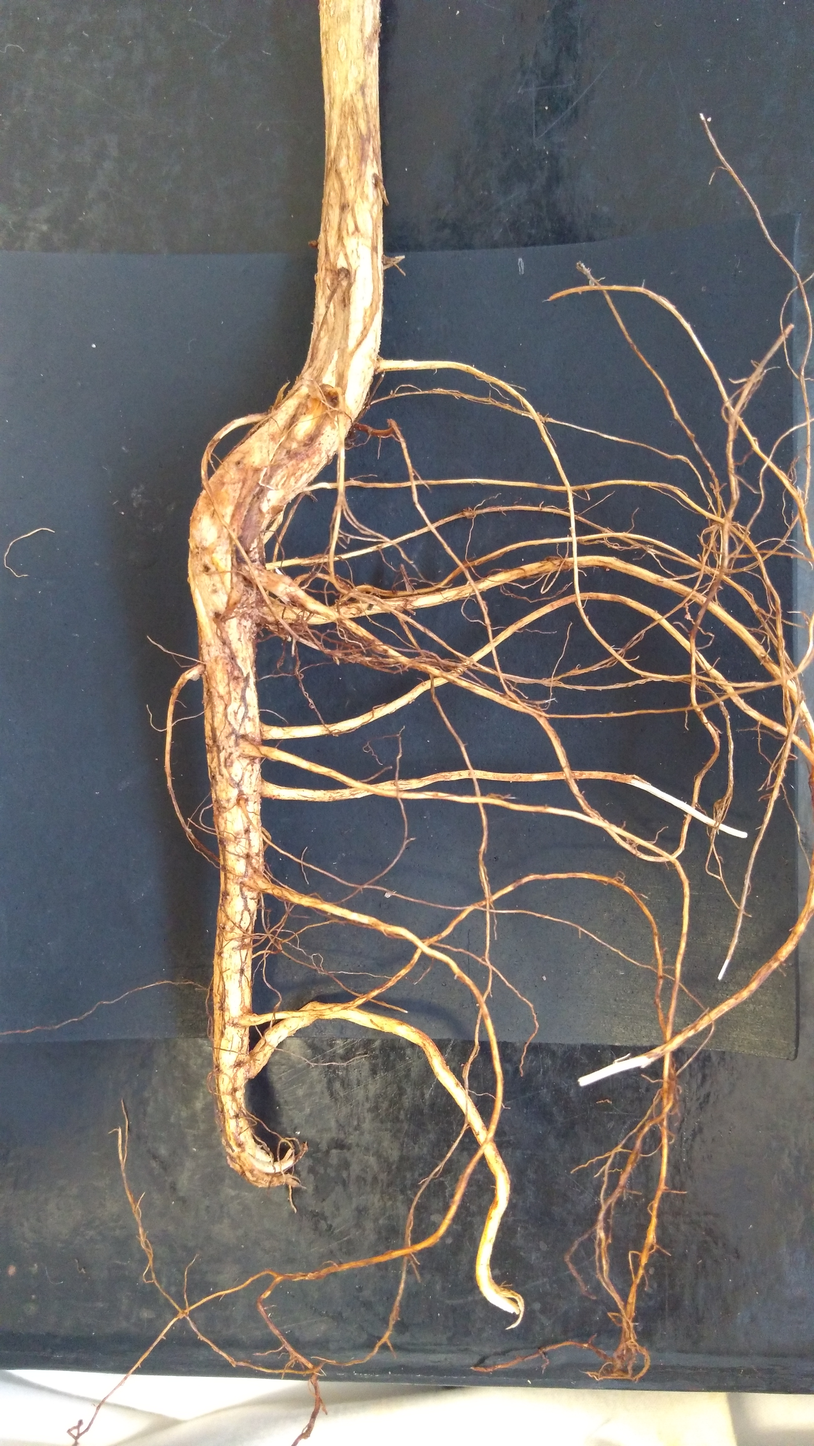nodule: (245, 562, 265, 579), (189, 672, 200, 681), (308, 239, 318, 248), (588, 278, 595, 286), (384, 891, 392, 898), (605, 568, 610, 572), (188, 829, 192, 832)
